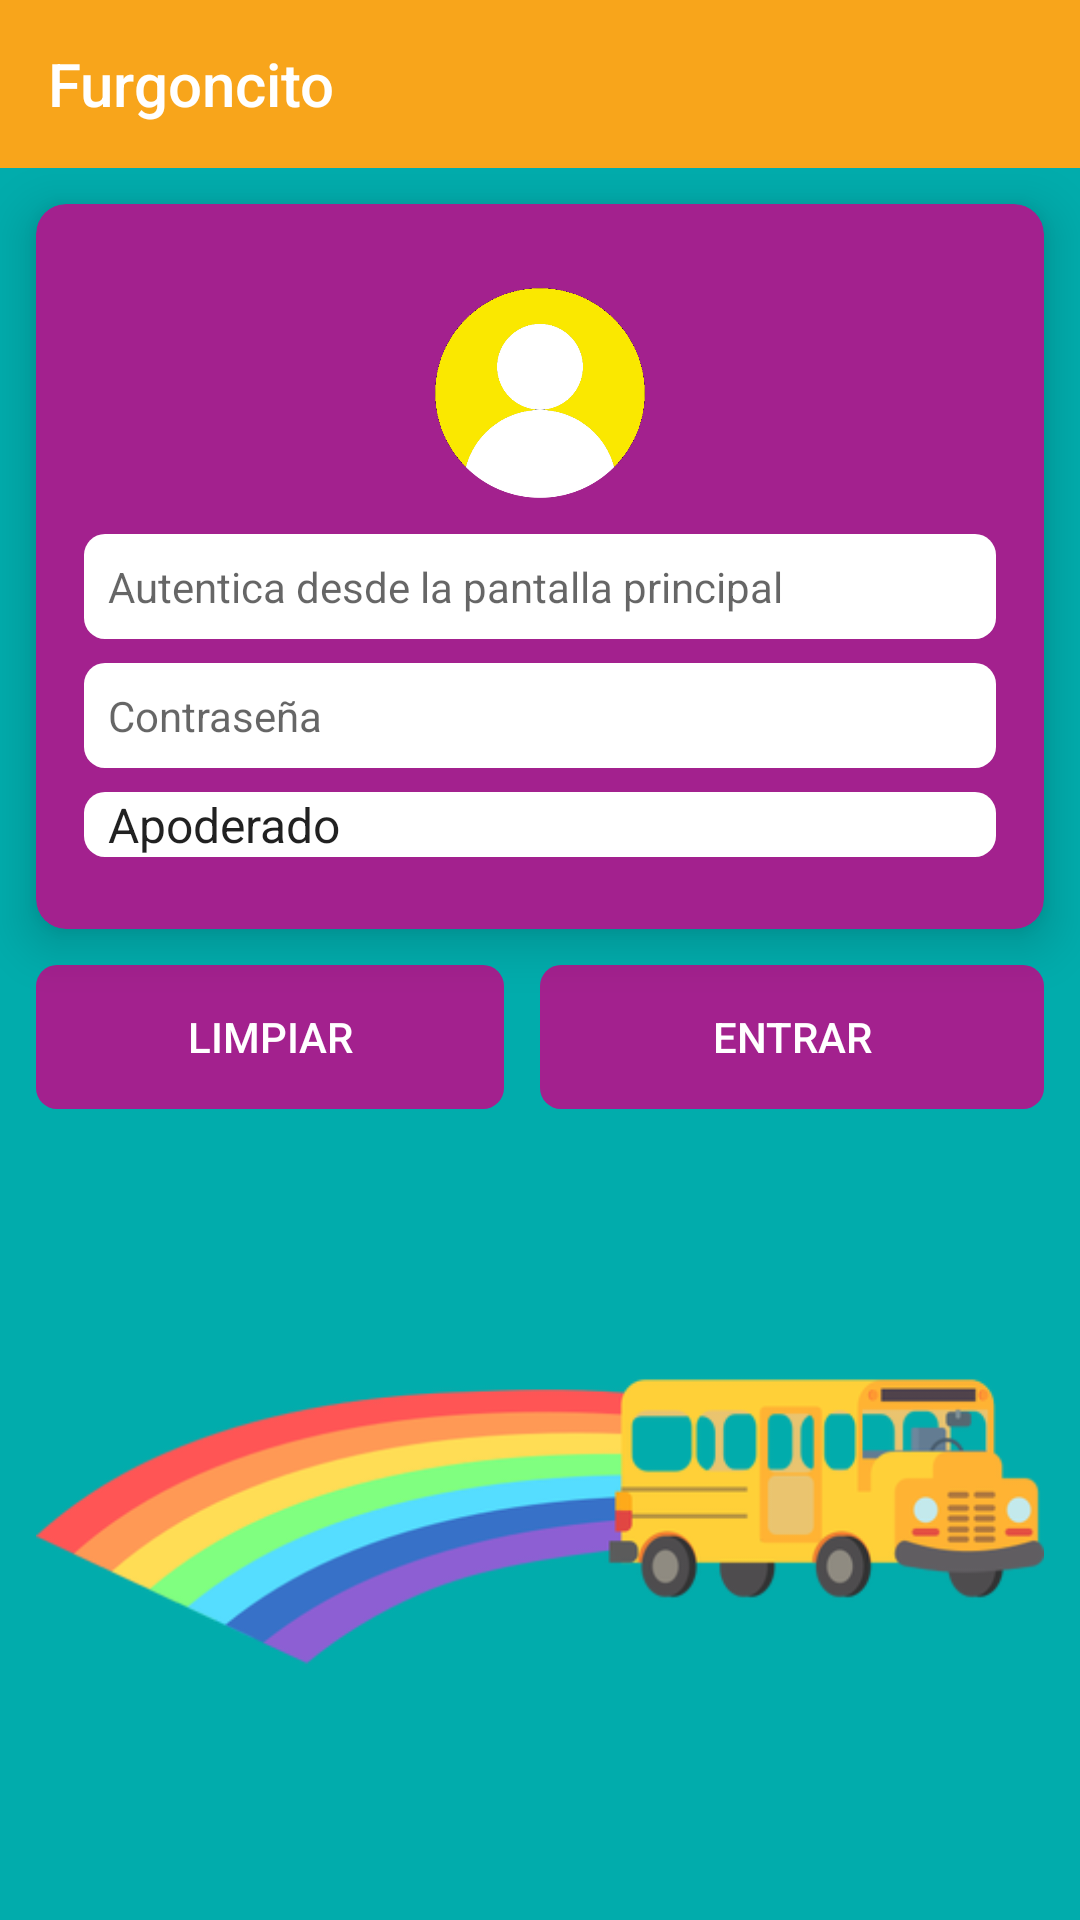

Where icons sit on this 1080w x 1920h app screen, as bbox=[x1, y1, x2, y2]:
profile login: bbox=[435, 288, 645, 498]
